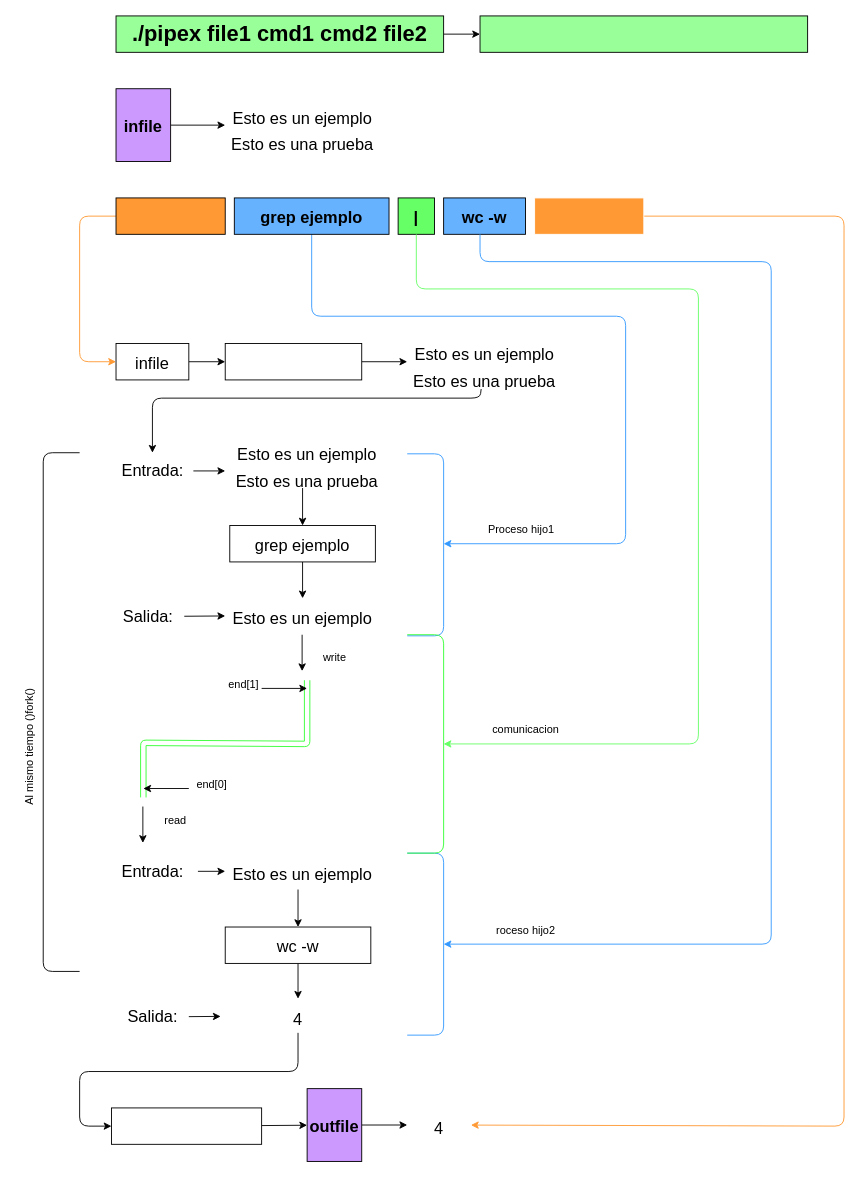
Image size: 867x1178. Some labels were removed from this diagram. The box of each missing label's shape, as (x1, y1, x2, y2) in pixels:
< file1 cmd1 | cmd2 > file2: (479, 15, 808, 52)
< infile: (115, 197, 225, 234)
> outfile: (534, 197, 644, 234)
entrada estandar: (224, 343, 362, 380)
salida estandar: (111, 1107, 262, 1144)
